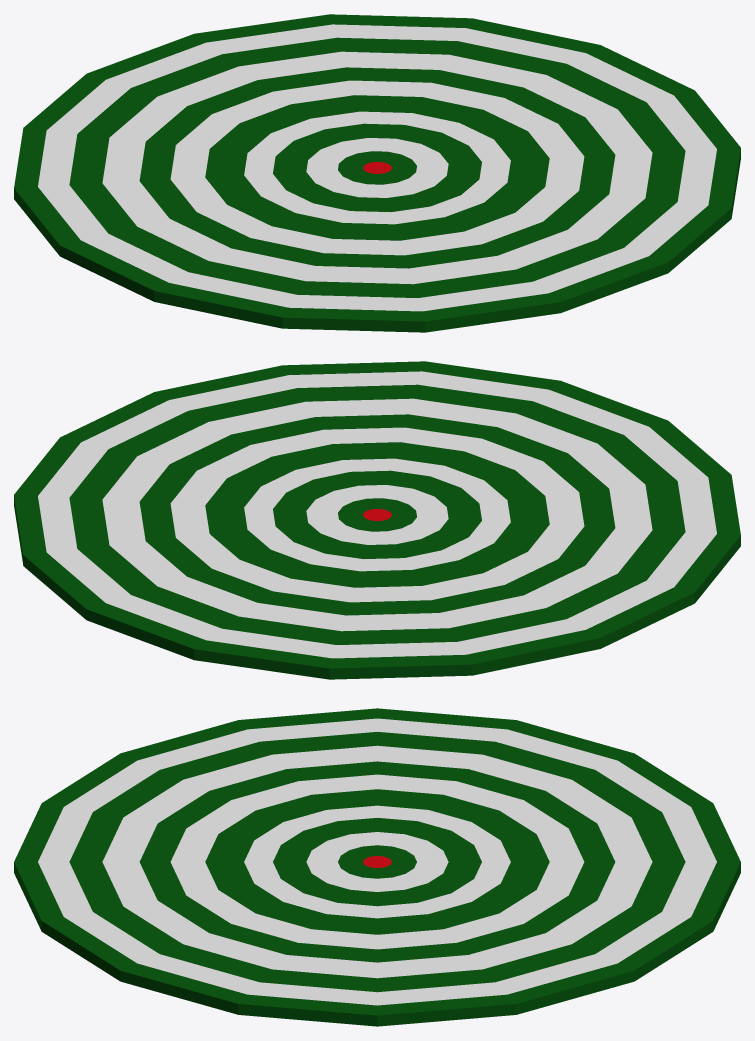
Rendered from Board.fbx.
3 views of the same model, one above another, from view 1: azimuth 30°, elevation 25°; view 2: azimuth 150°, elevation 25°; view 3: azimuth 270°, elevation 25° (orthographic).
Parts seen in each view (by area): view 1: Mesh; view 2: Mesh; view 3: Mesh.
Part boxes in pixels (x1=…): Mesh: x1=14, y1=14, x2=740, y2=332; Mesh: x1=14, y1=361, x2=740, y2=679; Mesh: x1=14, y1=708, x2=740, y2=1026.
Bounding box in the file's own units: 33.38 × 0.5555 × 33.38.
